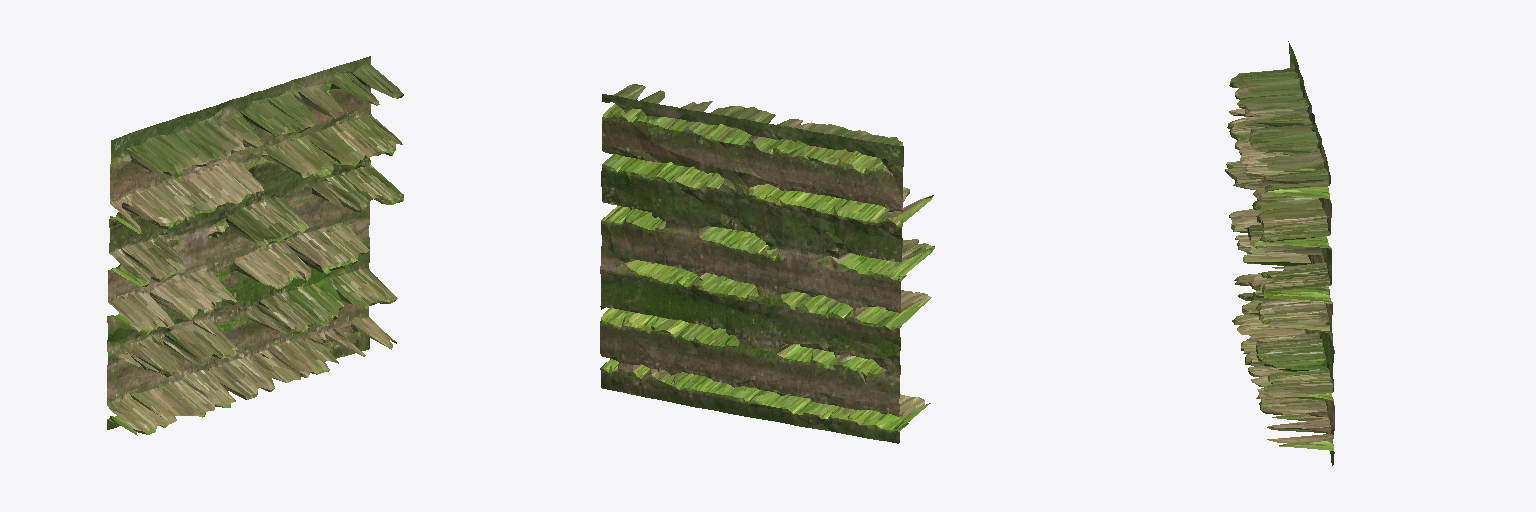
The picture shows the model from 3 angles: view 1: azimuth 30°, elevation 25°; view 2: azimuth 150°, elevation 25°; view 3: azimuth 270°, elevation 25°; orthographic projection.
Parts seen in each view (by area): view 1: grp1; view 2: grp1; view 3: grp1.
Boxes of the visible parts, <box> form: grp1: <box>107,56,403,435</box>; grp1: <box>600,84,934,443</box>; grp1: <box>1225,41,1334,465</box>.
Size of the model in its own units: 10 by 10 by 3.4.
1 materials, 1 textured.